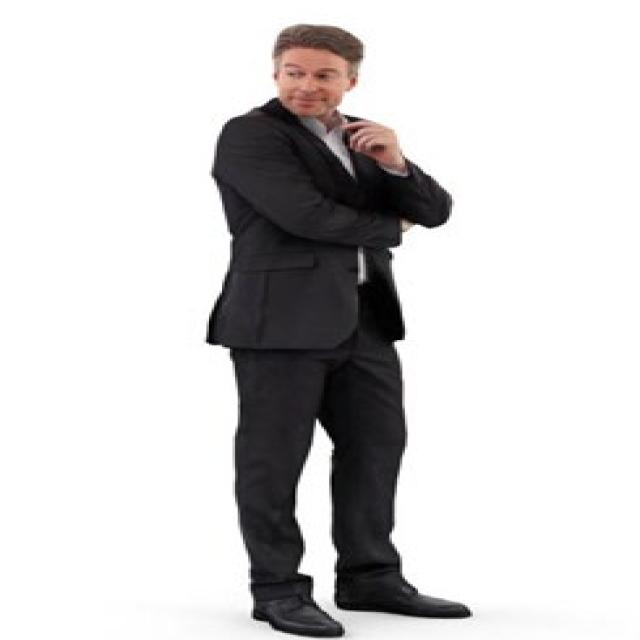standing: (202, 21, 475, 640)
